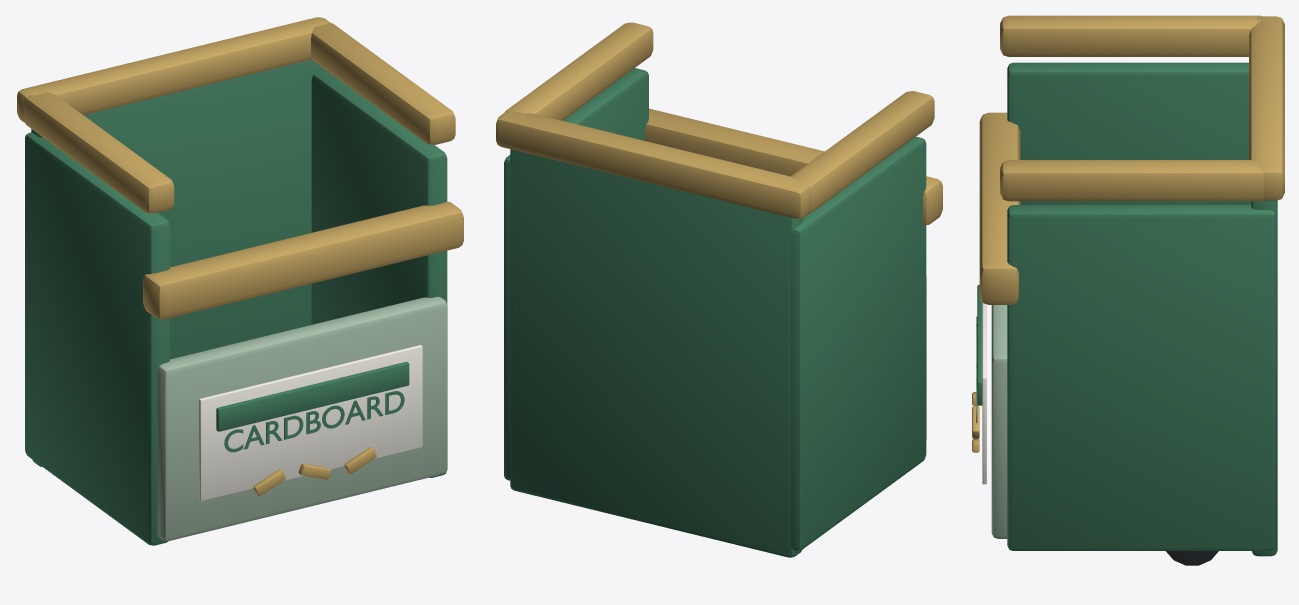
Rendered from delivery_recycling_station.glb.
The picture shows the model from 3 angles, left to right: view 1: azimuth 30°, elevation 25°; view 2: azimuth 150°, elevation 25°; view 3: azimuth 270°, elevation 25°; orthographic projection. The views are drawn at different scales.
Parts seen in each view (by area): view 1: RECYCLE_LEFT, RECYCLE_BACK, RECYCLE_FRONT_LOW, RECYCLE_RIGHT, RECYCLE_LABEL_PANEL, RECYCLE_FRONT_LIP, RECYCLE_TOP_RAIL_BACK, RECYCLE_TOP_RAIL_LEFT, RECYCLE_TOP_RAIL_RIGHT, RECYCLE_LABEL_BAND, RECYCLE_TEXT; view 2: RECYCLE_BACK, RECYCLE_LEFT, RECYCLE_TOP_RAIL_BACK, RECYCLE_TOP_RAIL_LEFT, RECYCLE_FRONT_LIP, RECYCLE_RIGHT, RECYCLE_TOP_RAIL_RIGHT; view 3: RECYCLE_RIGHT, RECYCLE_LEFT, RECYCLE_TOP_RAIL_RIGHT, RECYCLE_TOP_RAIL_LEFT, RECYCLE_FRONT_LIP, RECYCLE_TOP_RAIL_BACK, RECYCLE_FRONT_LOW, RECYCLE_BACK, RECYCLE_LABEL_PANEL, RECYCLE_LABEL_BAND, RECYCLE_WHEEL_02.
Part boxes in pixels (left/top/right/bottom): RECYCLE_LEFT: left=25, top=132, right=169, bottom=545; RECYCLE_BACK: left=31, top=59, right=323, bottom=466; RECYCLE_FRONT_LOW: left=157, top=296, right=447, bottom=540; RECYCLE_RIGHT: left=311, top=69, right=447, bottom=477; RECYCLE_LABEL_PANEL: left=199, top=345, right=422, bottom=501; RECYCLE_FRONT_LIP: left=143, top=201, right=463, bottom=319; RECYCLE_TOP_RAIL_BACK: left=17, top=17, right=330, bottom=122; RECYCLE_TOP_RAIL_LEFT: left=23, top=92, right=174, bottom=213; RECYCLE_TOP_RAIL_RIGHT: left=311, top=22, right=455, bottom=144; RECYCLE_LABEL_BAND: left=216, top=361, right=409, bottom=431; RECYCLE_TEXT: left=224, top=391, right=404, bottom=452; RECYCLE_BACK: left=510, top=149, right=803, bottom=557; RECYCLE_LEFT: left=790, top=136, right=926, bottom=550; RECYCLE_TOP_RAIL_BACK: left=496, top=109, right=811, bottom=218; RECYCLE_TOP_RAIL_LEFT: left=791, top=91, right=934, bottom=212; RECYCLE_FRONT_LIP: left=645, top=108, right=942, bottom=225; RECYCLE_RIGHT: left=504, top=68, right=648, bottom=480; RECYCLE_TOP_RAIL_RIGHT: left=505, top=22, right=653, bottom=120; RECYCLE_RIGHT: left=1007, top=205, right=1276, bottom=550; RECYCLE_LEFT: left=1007, top=62, right=1251, bottom=204; RECYCLE_TOP_RAIL_RIGHT: left=1000, top=160, right=1264, bottom=201; RECYCLE_TOP_RAIL_LEFT: left=1000, top=15, right=1261, bottom=56; RECYCLE_FRONT_LIP: left=979, top=112, right=1020, bottom=304; RECYCLE_TOP_RAIL_BACK: left=1249, top=16, right=1284, bottom=200; RECYCLE_FRONT_LOW: left=991, top=305, right=1007, bottom=538; RECYCLE_BACK: left=1251, top=200, right=1277, bottom=556; RECYCLE_LABEL_PANEL: left=982, top=302, right=986, bottom=484; RECYCLE_LABEL_BAND: left=977, top=284, right=982, bottom=405; RECYCLE_WHEEL_02: left=1166, top=551, right=1218, bottom=565.
Size of the model in its own units: 0.785 by 0.9629 by 0.6505.
